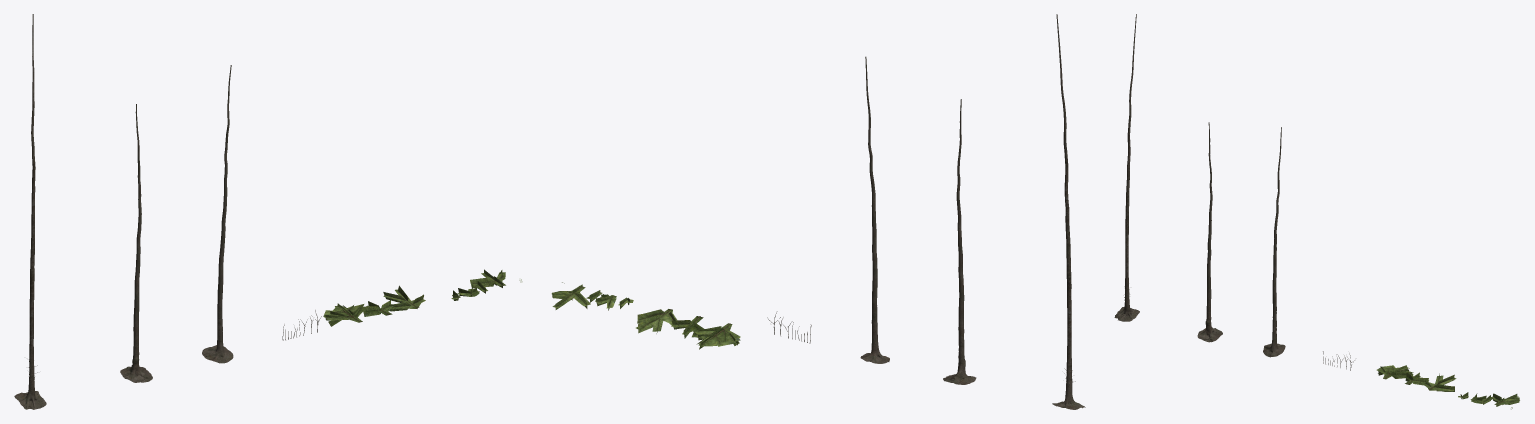
File: field_fir_a_lod0.glb
3 renders of one model, left to right at view 1: azimuth 30°, elevation 25°; view 2: azimuth 150°, elevation 25°; view 3: azimuth 330°, elevation 25°, orthographic. The views are drawn at different scales.
Visible parts, largest first — view 1: bark_lod0, foliage_lod0; view 2: bark_lod0, foliage_lod0; view 3: bark_lod0, foliage_lod0.
Boxes of the visible parts, box(x1,y1,x2,y2) form: bark_lod0: box(14, 14, 321, 409); foliage_lod0: box(323, 269, 522, 326); bark_lod0: box(767, 14, 1085, 409); foliage_lod0: box(551, 282, 740, 349); bark_lod0: box(1114, 14, 1354, 370); foliage_lod0: box(1376, 365, 1519, 409).
Bounding box in the file's own units: 24.02 × 17.86 × 2.77.
2 materials, 2 textured.
